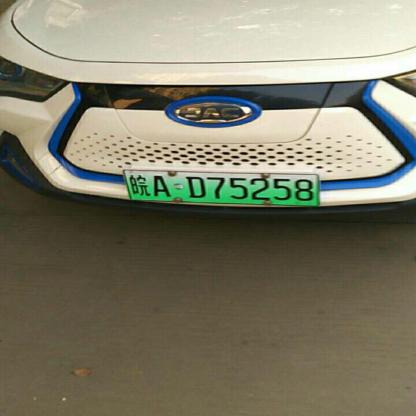lp: (123, 169, 320, 205)
